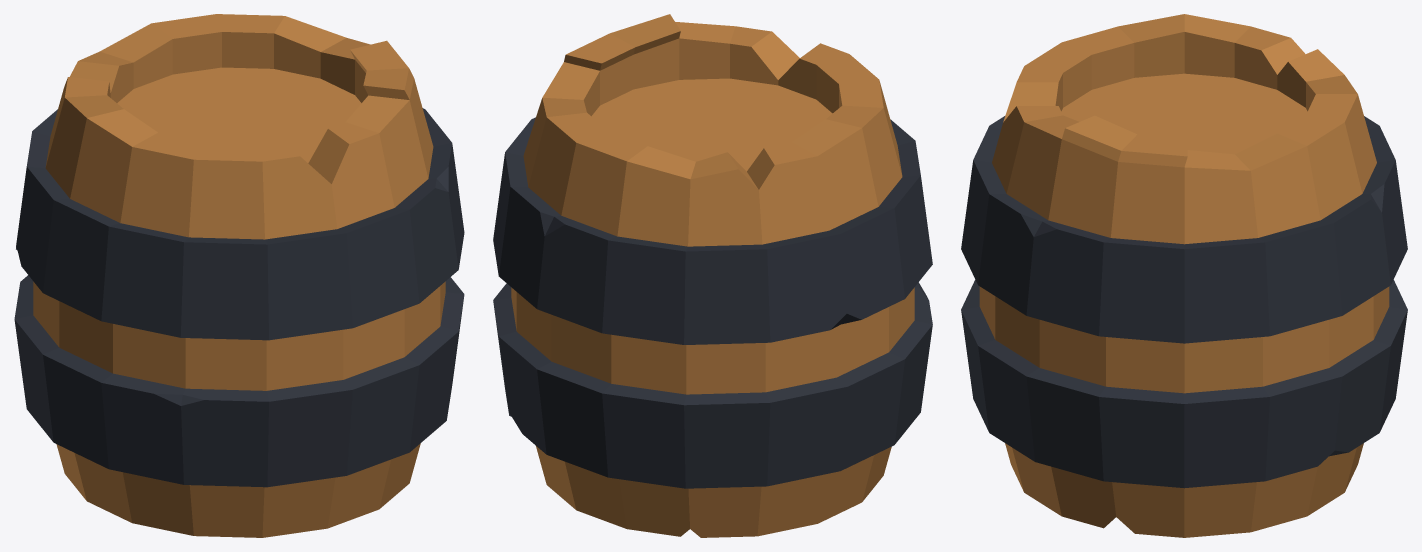
Rendered from BARREL.fbx.
The picture shows the model from 3 angles, left to right: view 1: azimuth 30°, elevation 25°; view 2: azimuth 150°, elevation 25°; view 3: azimuth 270°, elevation 25°; orthographic projection. The views are drawn at different scales.
Parts seen in each view (by area): view 1: Cylinder.005; view 2: Cylinder.005; view 3: Cylinder.005.
Boxes of the visible parts, box(x1,y1,x2,y2) form: Cylinder.005: box(14, 14, 464, 537); Cylinder.005: box(493, 14, 932, 537); Cylinder.005: box(961, 14, 1407, 537).
Size of the model in its own units: 51.91 by 49.56 by 51.91.
